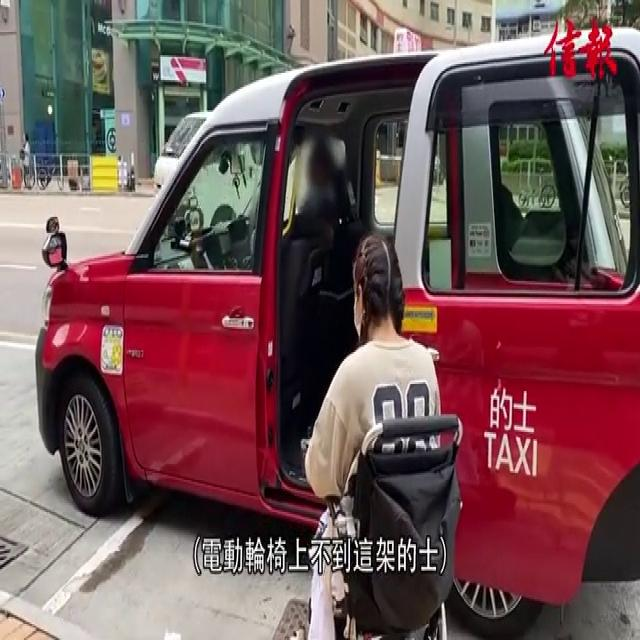wheelchairs: (295, 392, 469, 640)
